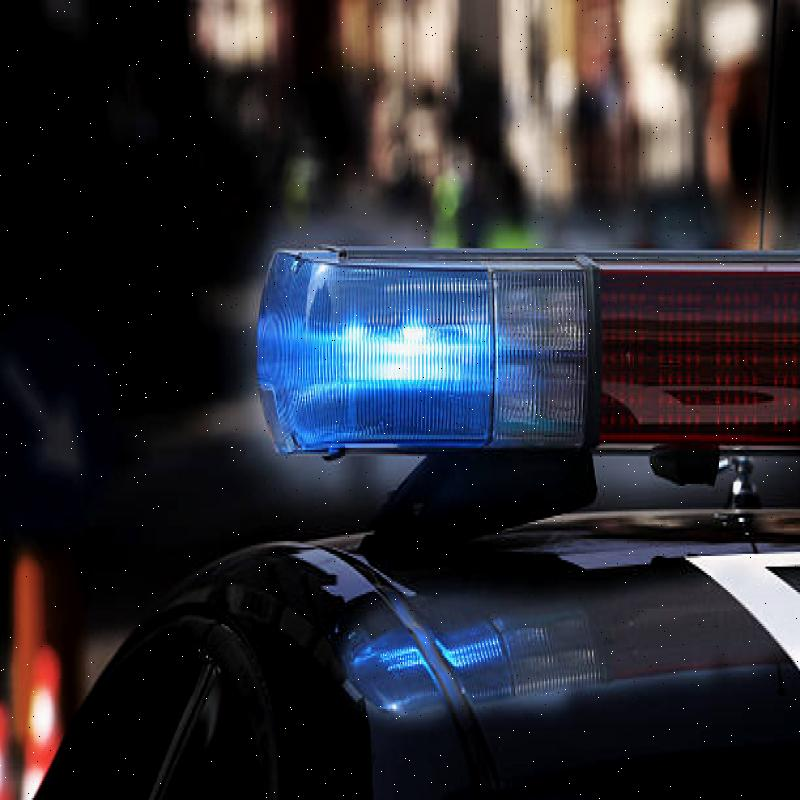AmbulanceSiren: (242, 210, 800, 552)
